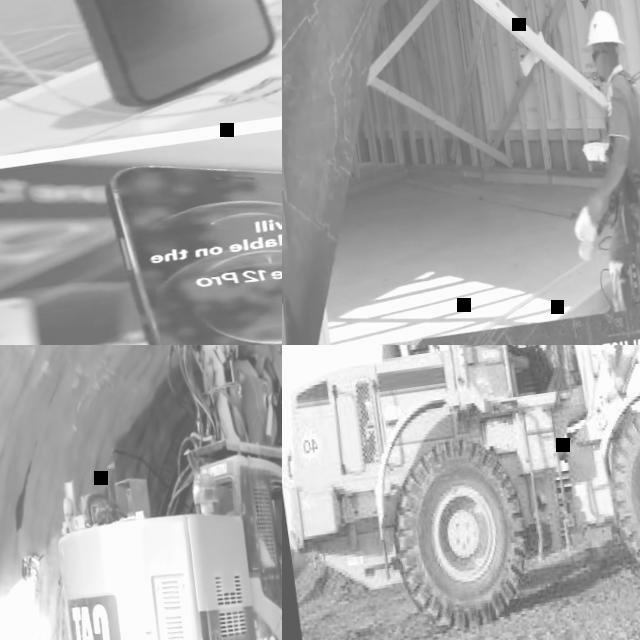helmet: (580, 8, 626, 54)
machinery: (282, 345, 640, 640), (0, 345, 282, 640)
no_mask: (596, 59, 610, 80)
no_vest: (603, 69, 640, 190)
person: (561, 6, 640, 311), (483, 345, 556, 400), (252, 514, 282, 639)
vest: (258, 538, 274, 566)
